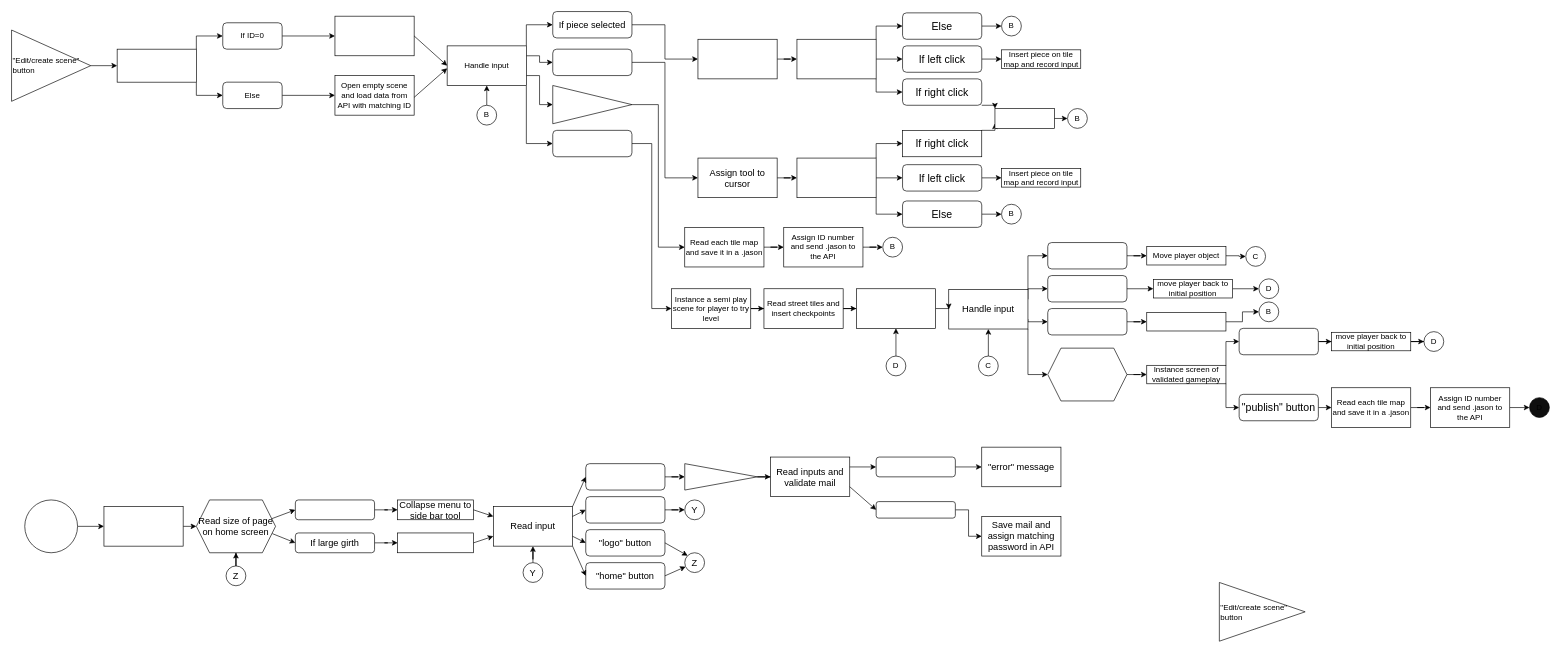
This 1561x653 diagram has some shape labels left out. Each missing label, with the box of its shape:
"about us" button: (585, 496, 665, 523)
"back" button: (1047, 308, 1127, 335)
"Log in" page: (684, 463, 757, 490)
"play" button: (585, 463, 665, 490)
"restart" button: (1047, 275, 1127, 302)
"save" button: (552, 85, 632, 124)
"try again" button: (1238, 328, 1318, 355)
Assign piece to cursor: (697, 39, 777, 79)
If "play" button: (552, 130, 632, 157)
If not valid: (875, 456, 955, 477)
If player finishes all laps: (1047, 347, 1127, 401)
If small girth: (295, 499, 375, 520)
If tool selected: (552, 49, 632, 76)
If valid: (875, 501, 955, 518)
Instance edit scene: (1146, 312, 1226, 331)
Instance web page: (103, 506, 183, 546)
On hover over cell , render preview of the tile selected.: (796, 39, 876, 79)
On hover over cell, render preview of the tool selected.: (796, 157, 876, 198)
Open emty scene: (334, 16, 414, 56)
Open menu on top girth: (397, 532, 474, 553)
Queue maker scene and read ID: (116, 49, 196, 82)
Start timer: (856, 288, 936, 328)
Unassign tool: (994, 108, 1054, 128)
WASD: (1047, 242, 1127, 269)
